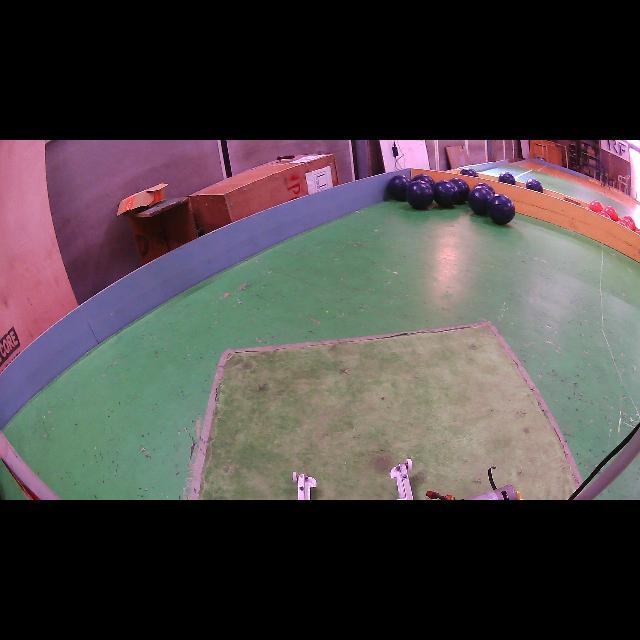B: (486, 194, 515, 225), (406, 180, 434, 209), (434, 180, 459, 208), (468, 186, 492, 215), (388, 175, 410, 201), (450, 178, 470, 203), (412, 174, 435, 188), (474, 182, 495, 195), (499, 171, 515, 185), (526, 179, 542, 192), (460, 168, 479, 178)
R: (605, 205, 619, 221), (589, 199, 603, 213), (622, 216, 636, 228)
